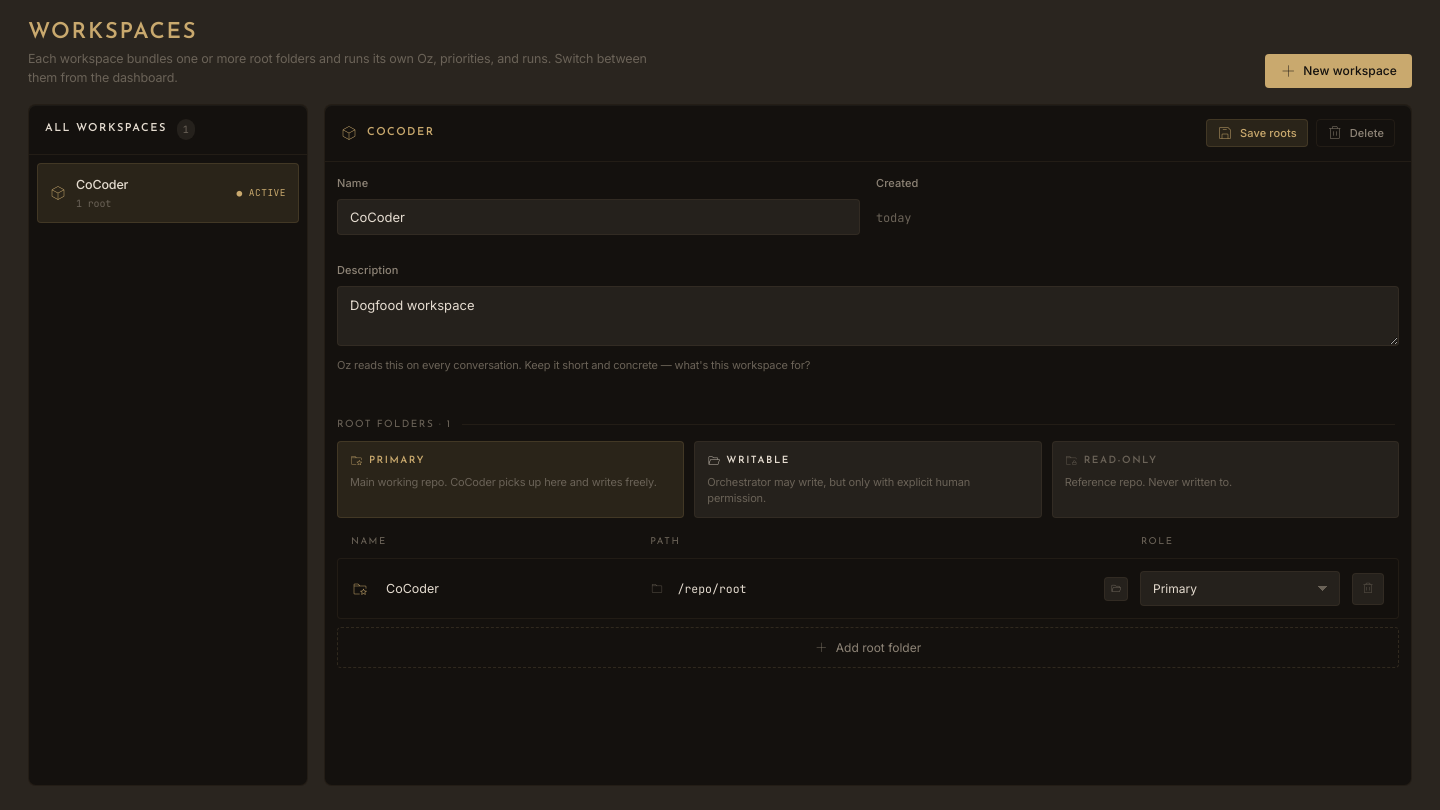
it: WorkspacesScreen root picker › shows picker validation errors inline without changing the path
The width and height of the screenshot is (1440, 810).
Click the button titled "Pick folder" at [1116, 589], box 1104,577 -> 1128,601
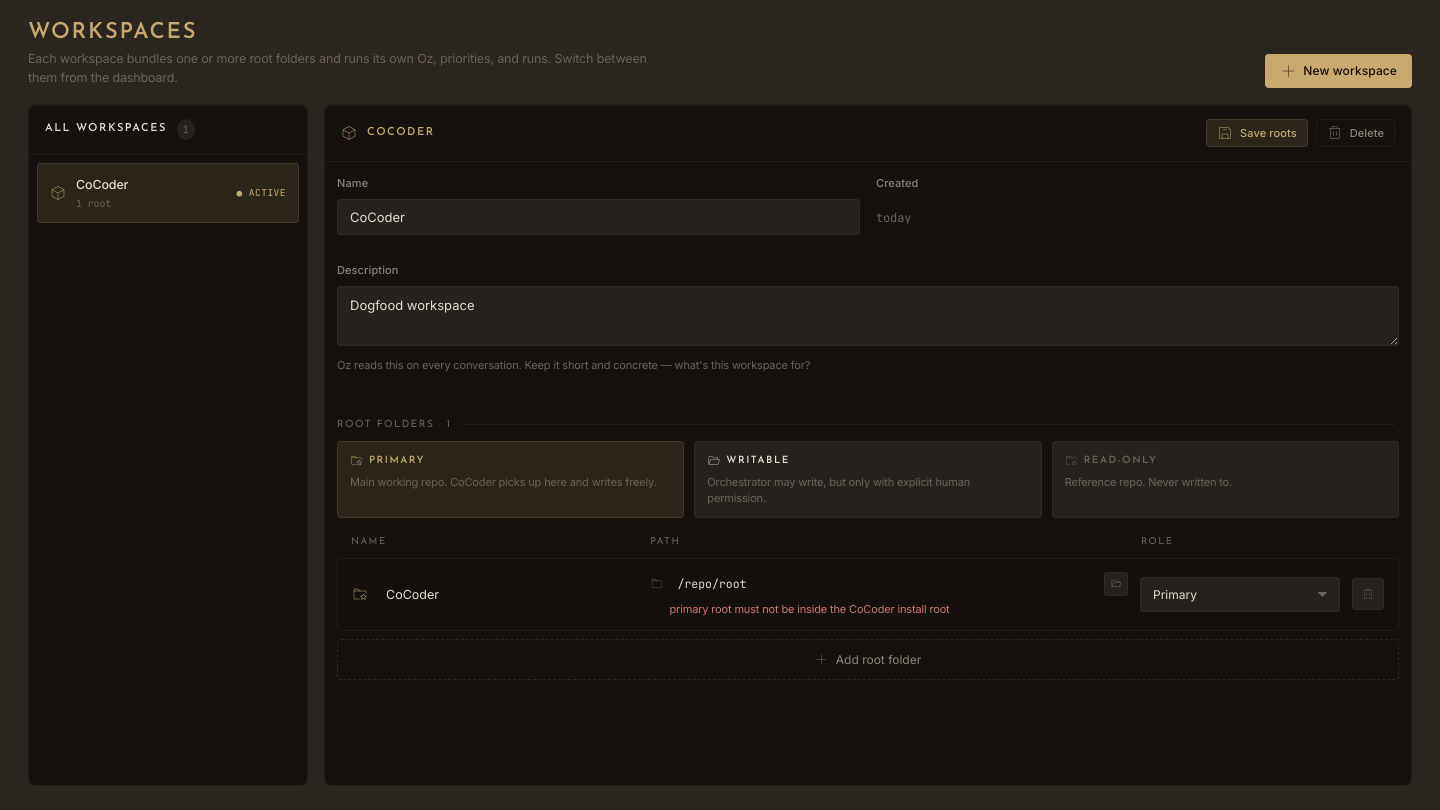
Check: the 2nd field showing "/repo/root" is shown, box 670,571 -> 1098,596
Check: the text "primary root must not be inside the CoCoder install root" is shown, box 670,602 -> 950,616
